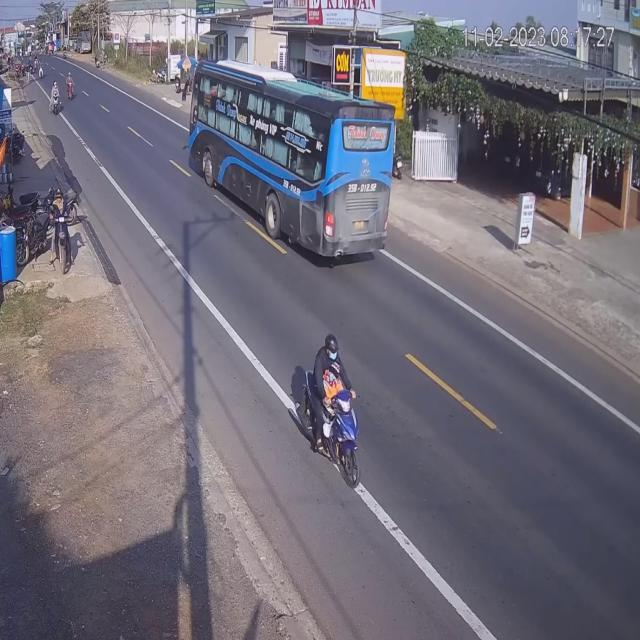bus: (186, 60, 397, 266)
motorbike: (292, 335, 362, 491), (49, 80, 60, 116), (68, 74, 76, 102)
